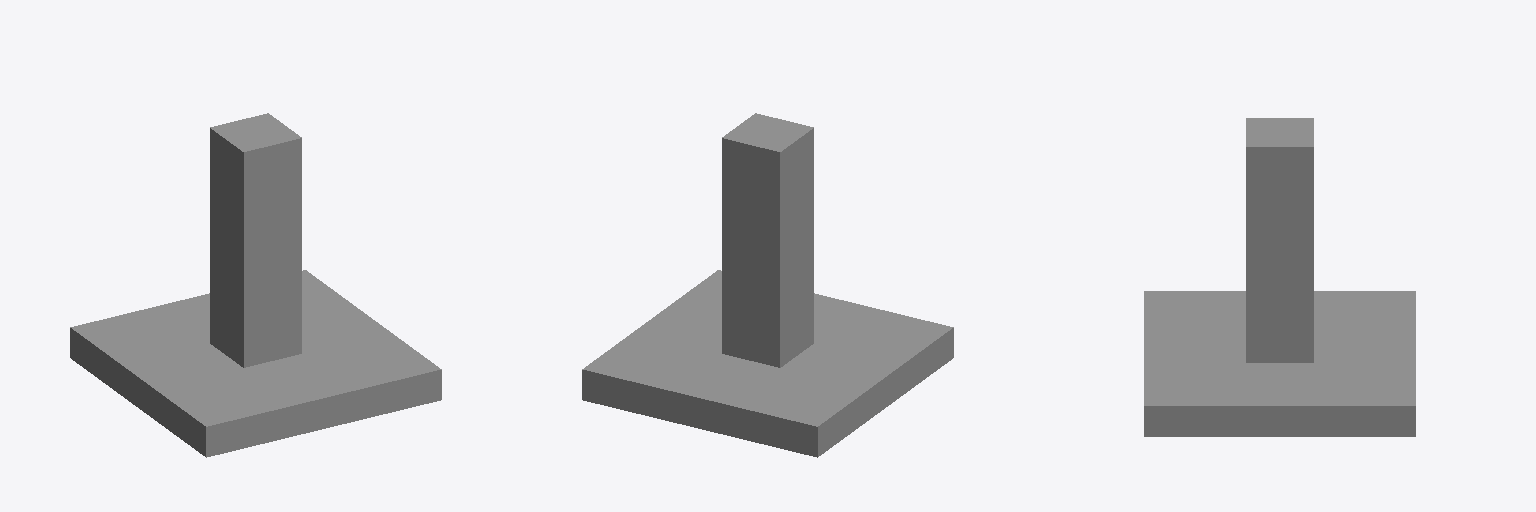
The model's file is disruptor.obj.
3 renders of one model, left to right at view 1: azimuth 30°, elevation 25°; view 2: azimuth 150°, elevation 25°; view 3: azimuth 270°, elevation 25°, orthographic.
Visible parts, largest first — view 1: Cube; view 2: Cube; view 3: Cube.
Boxes of the visible parts, box(x1,y1,x2,y2) form: Cube: box(70, 113, 441, 457); Cube: box(582, 113, 953, 457); Cube: box(1144, 118, 1415, 436).
Bounding box in the file's own units: 1 × 1 × 1.